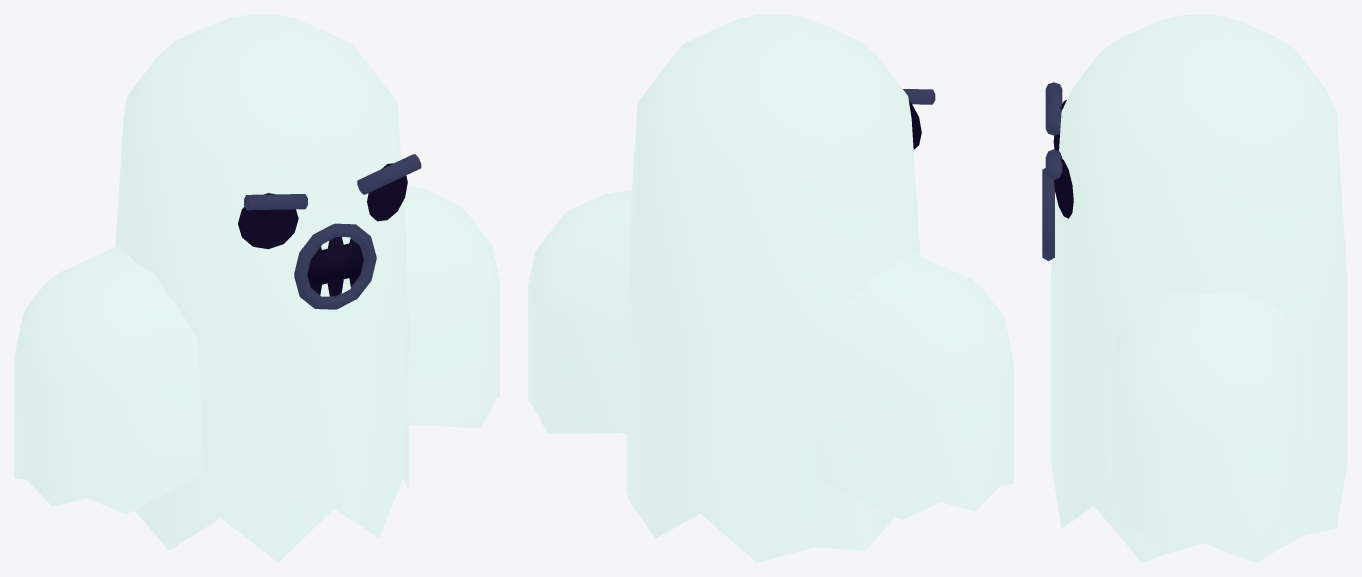
File: ghost.glb
3 views of the same model, side by side, from view 1: azimuth 30°, elevation 25°; view 2: azimuth 150°, elevation 25°; view 3: azimuth 270°, elevation 25° (orthographic).
Parts seen in each view (by area): view 1: ghost; view 2: ghost; view 3: ghost.
Boxes of the visible parts, <box> form: ghost: <box>14,14,499,562</box>; ghost: <box>528,14,1013,562</box>; ghost: <box>1042,14,1347,562</box>.
Bounding box in the file's own units: 17.46 × 17.12 × 9.97.
